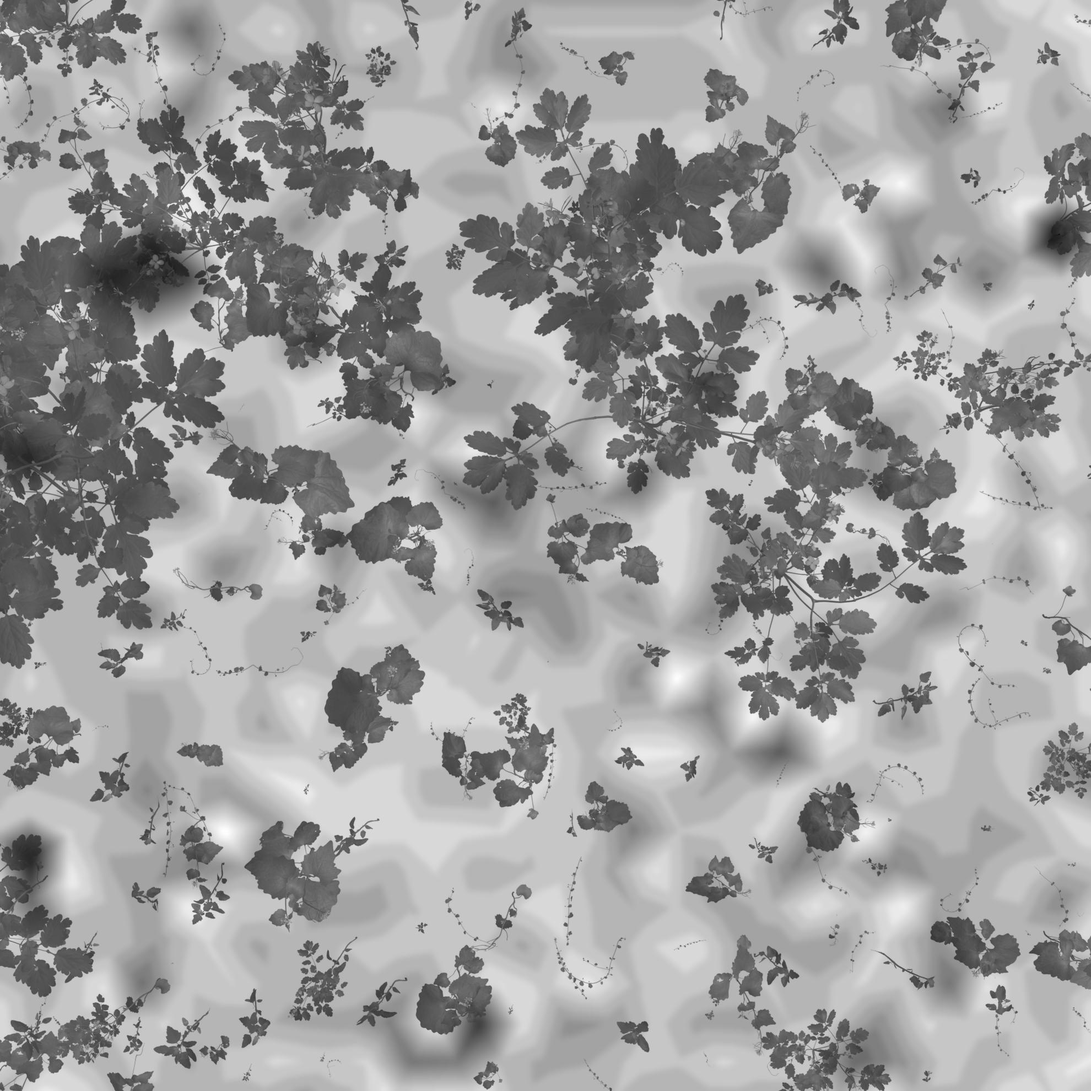landmine: (65, 195, 228, 352)
